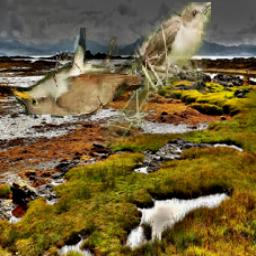Cuckoo: (96, 3, 211, 152), (10, 28, 147, 118)
